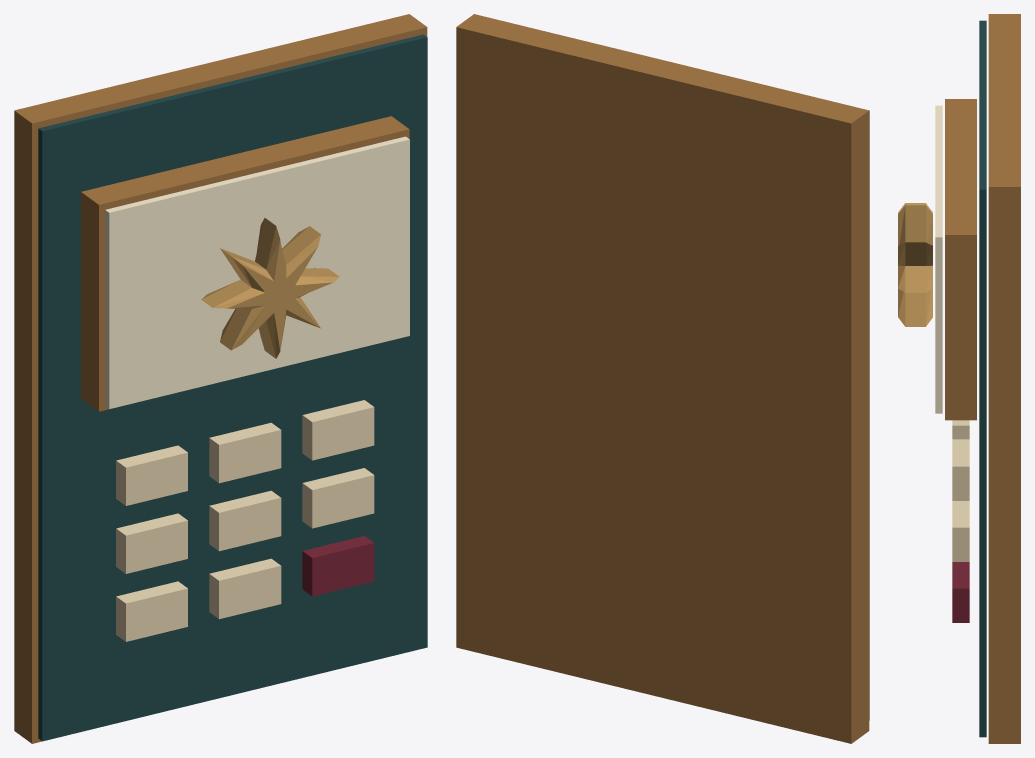
Rendered from terminal.glb.
The picture shows the model from 3 angles, left to right: view 1: azimuth 30°, elevation 25°; view 2: azimuth 150°, elevation 25°; view 3: azimuth 270°, elevation 25°; orthographic projection. The views are drawn at different scales.
Visible parts, largest first — view 1: body-face, screen-face, body-corrugation, screen-corrugation, contactless, key-1, key-4, key-7, key-8, key-2, key-5, key-3 (+2 smaller); view 2: body-corrugation; view 3: body-corrugation, screen-corrugation, body-face, contactless, screen-face, key-8, key-2, key-5, key-7.
Part boxes in pixels (x1,y1,x2,y2): body-face: (38,34,427,741); screen-face: (105,136,409,409); body-corrugation: (14,14,427,743); screen-corrugation: (81,116,409,411); contactless: (201,218,339,358); key-1: (209,558,281,619); key-4: (209,490,281,551); key-7: (209,422,281,483); key-8: (302,400,374,460); key-2: (302,536,374,596); key-5: (302,468,374,528); key-3: (116,513,187,573); body-corrugation: (456,14,869,743); body-corrugation: (988,14,1020,743); screen-corrugation: (945,99,976,420); body-face: (979,20,986,737); contactless: (898,203,932,326); screen-face: (935,105,942,413); key-8: (952,439,969,500); key-2: (952,562,969,622); key-5: (952,501,969,561); key-7: (952,420,969,439).
Bounding box in the file's own units: 1.4 × 2.1 × 0.42.
